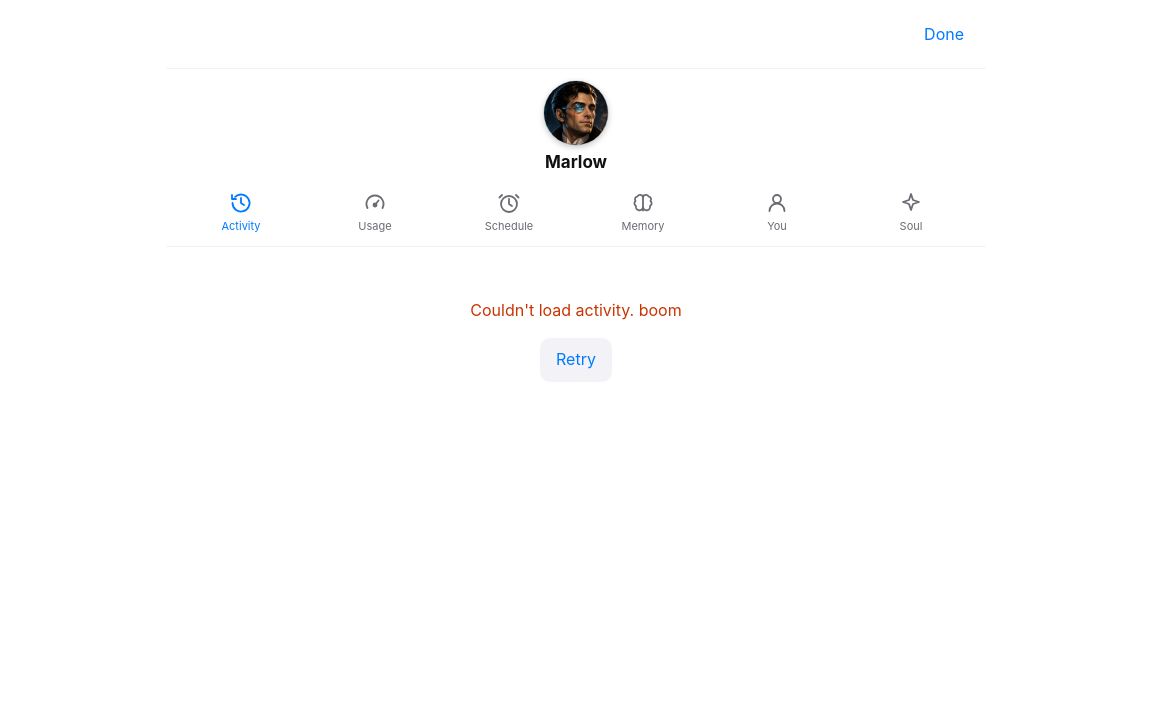
Test case: activity view › shows an error with Retry, then recovers
Expected: the message shows "boom", [470, 300, 682, 320]
Step 1. Click the button "Retry" → [576, 360], box [540, 338, 612, 382]
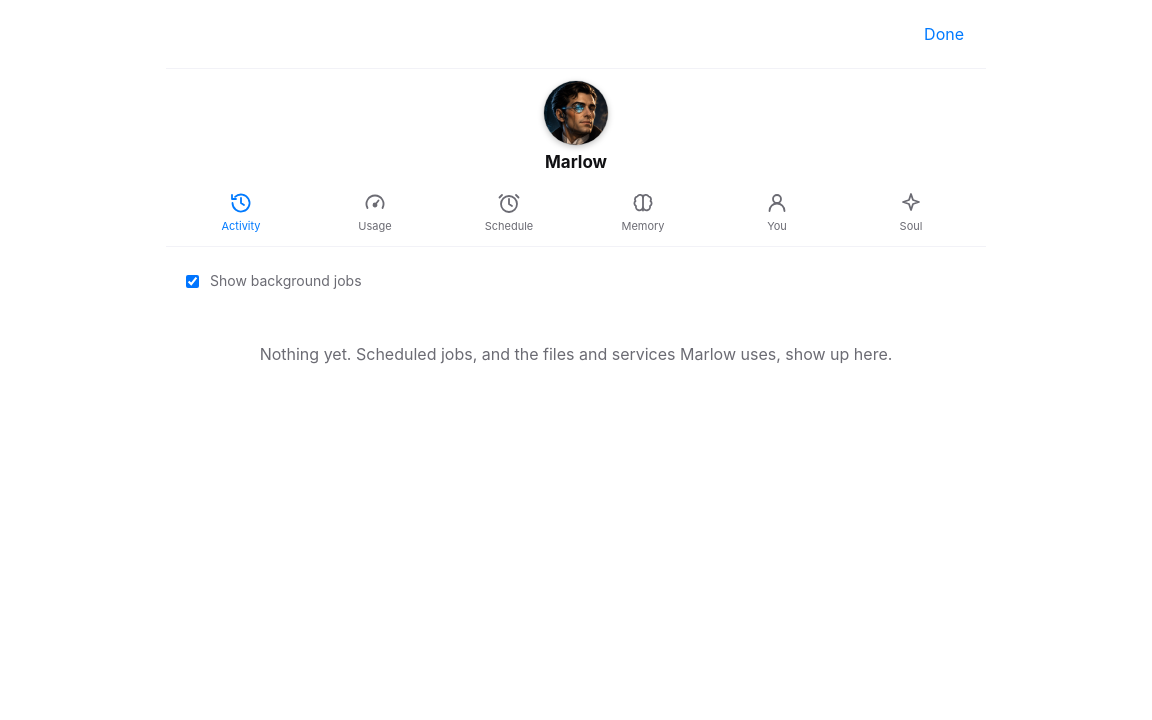
Result: the text "Nothing yet" is shown at [260, 344, 892, 364]
